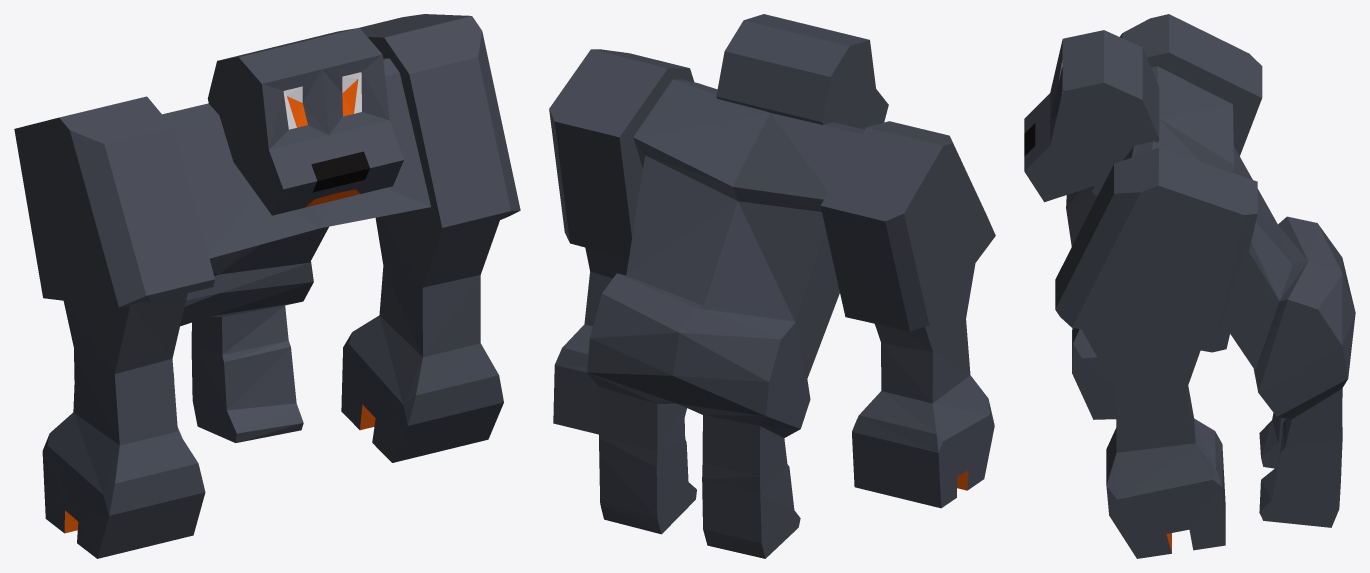
File: kong_000008.obj
3 views of the same model, side by side, from view 1: azimuth 30°, elevation 25°; view 2: azimuth 150°, elevation 25°; view 3: azimuth 270°, elevation 25° (orthographic). The views are drawn at different scales.
Parts seen in each view (by area): view 1: Cube; view 2: Cube; view 3: Cube.
Part boxes in pixels (x1,y1,x2,y2): Cube: (14, 14, 520, 558); Cube: (549, 14, 995, 558); Cube: (1024, 14, 1355, 558).
Bounding box in the file's own units: 5.84 × 6.46 × 4.49.
1 material, 1 textured.
